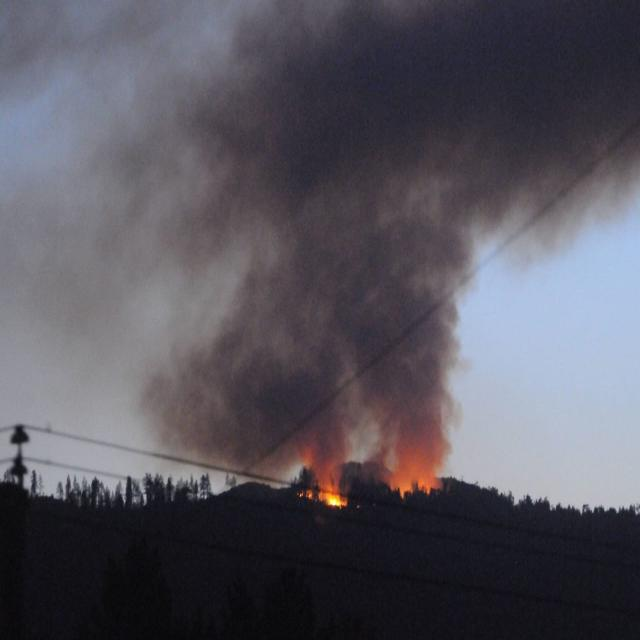Fire: (307, 450, 457, 515)
Smoke: (50, 0, 640, 447)
